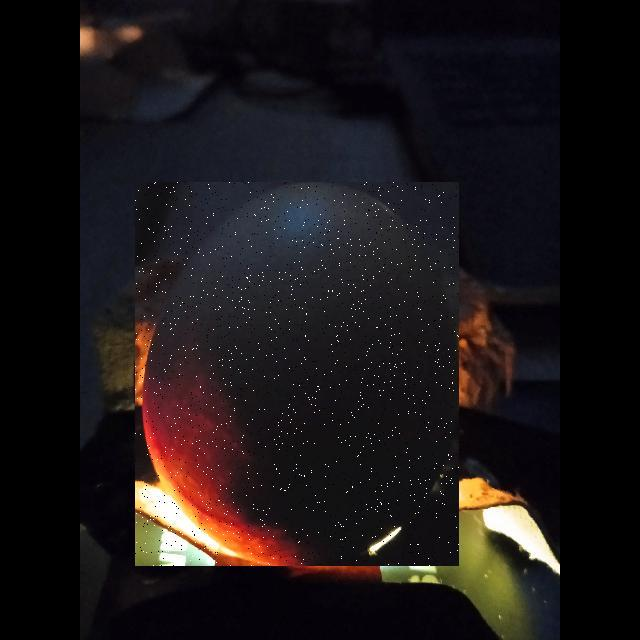Fertile: (135, 182, 459, 566)
